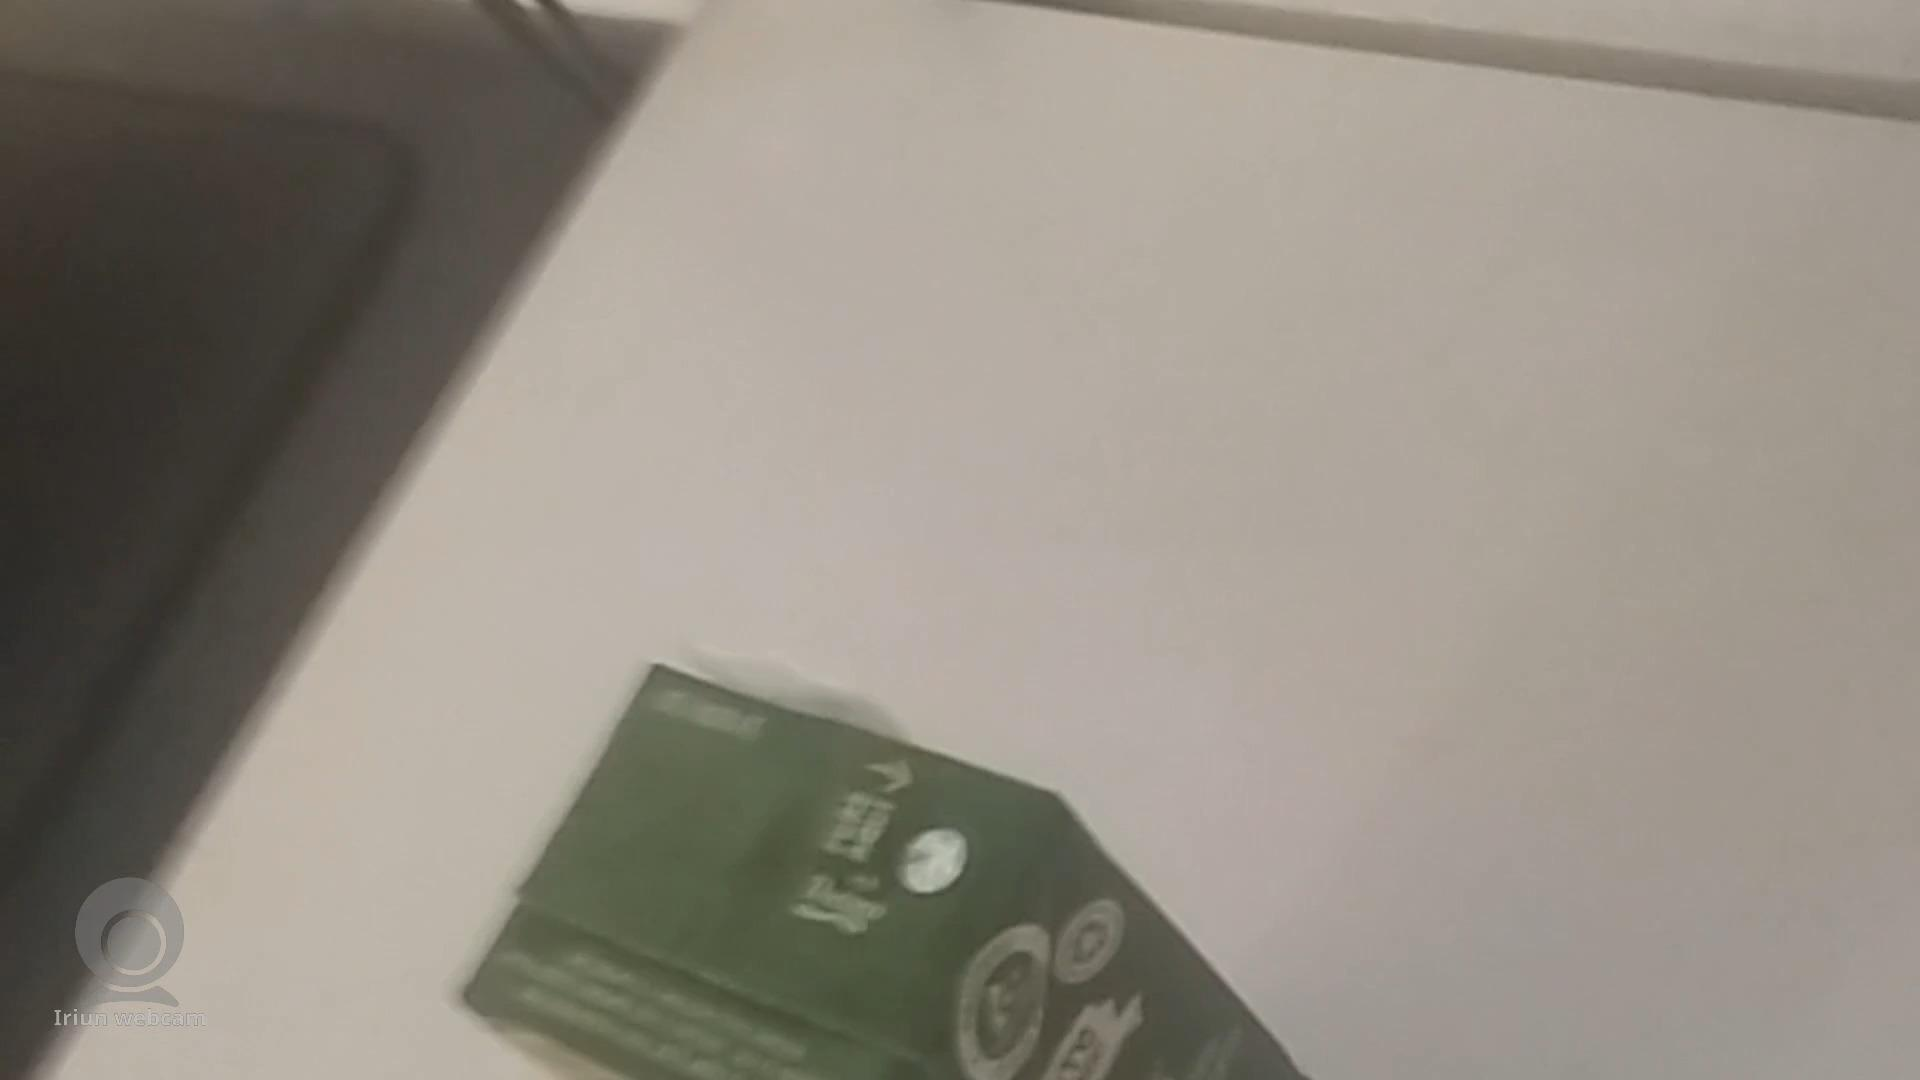coco: (463, 661, 1295, 1080)
